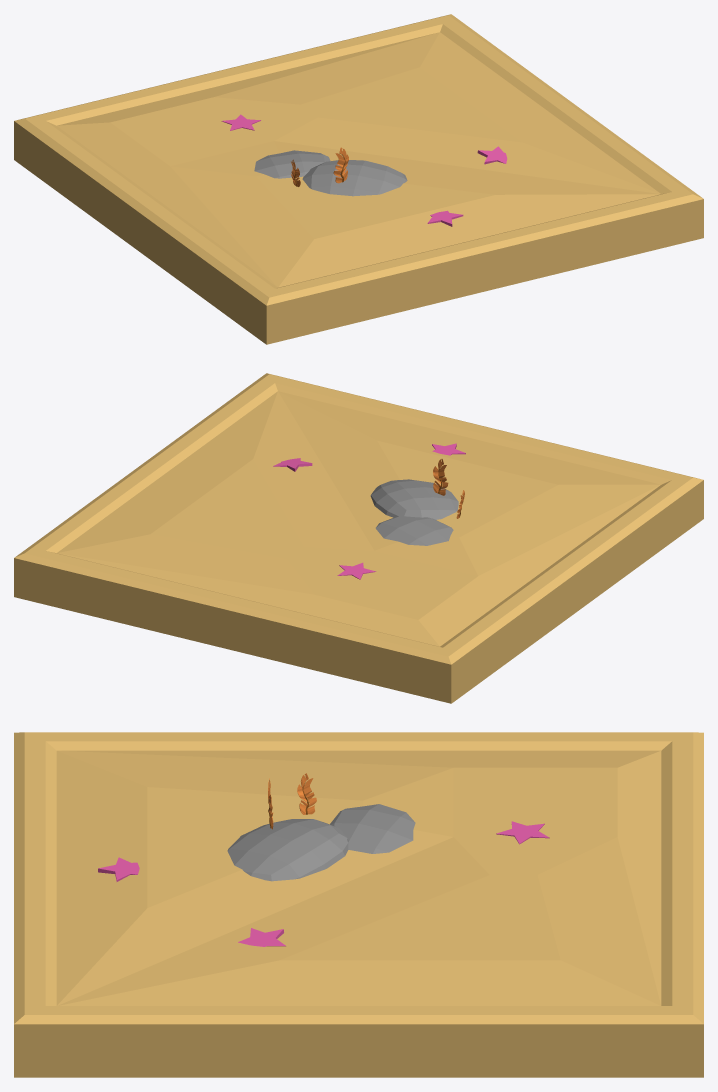
The model's file is block_3.glb.
3 renders of one model, top to bottom at view 1: azimuth 30°, elevation 25°; view 2: azimuth 150°, elevation 25°; view 3: azimuth 270°, elevation 25°, orthographic. The views are drawn at different scales.
Parts seen in each view (by area): view 1: Cube.003; view 2: Cube.003; view 3: Cube.003.
Part boxes in pixels (x1,y1,x2,y2): Cube.003: (14, 14, 703, 344); Cube.003: (14, 373, 703, 703); Cube.003: (14, 732, 703, 1077).
Bounding box in the file's own units: 12 × 2.61 × 12.
